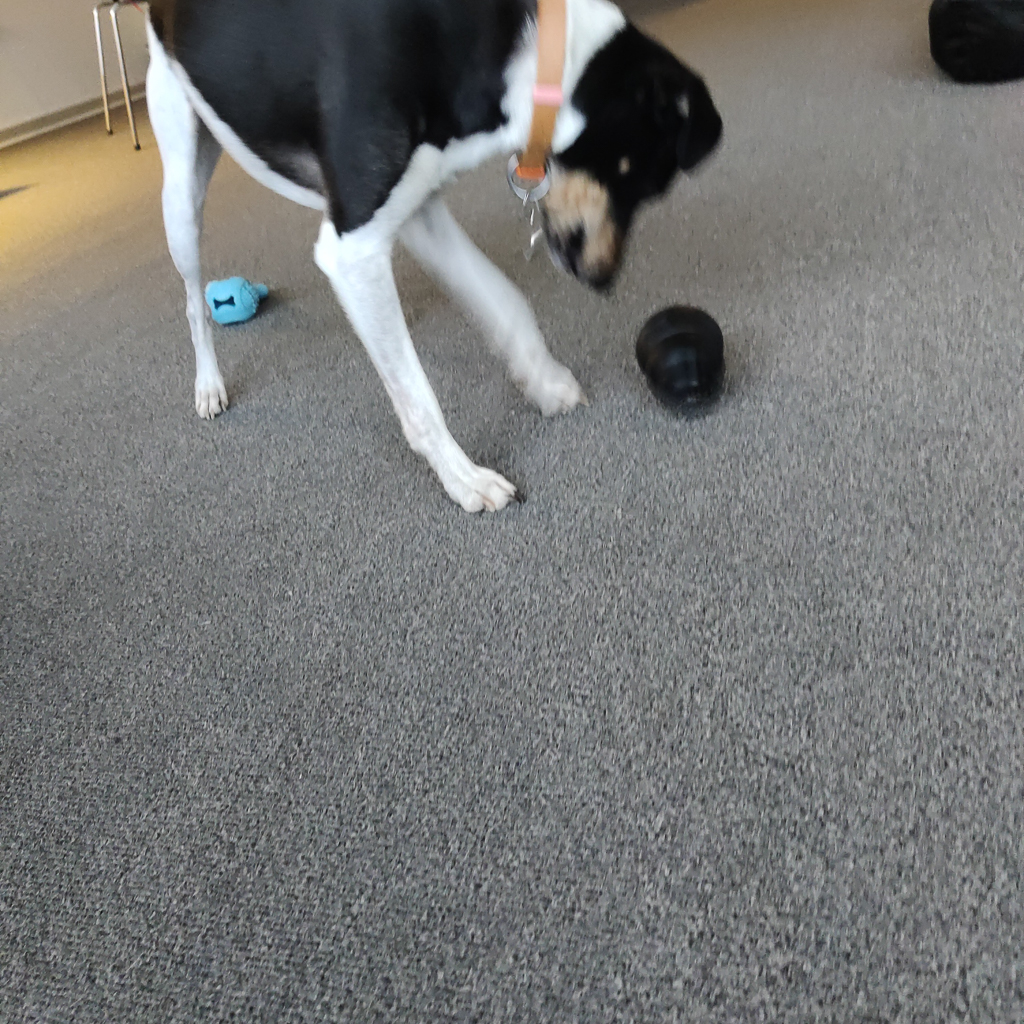Dog: (102, 0, 752, 547)
